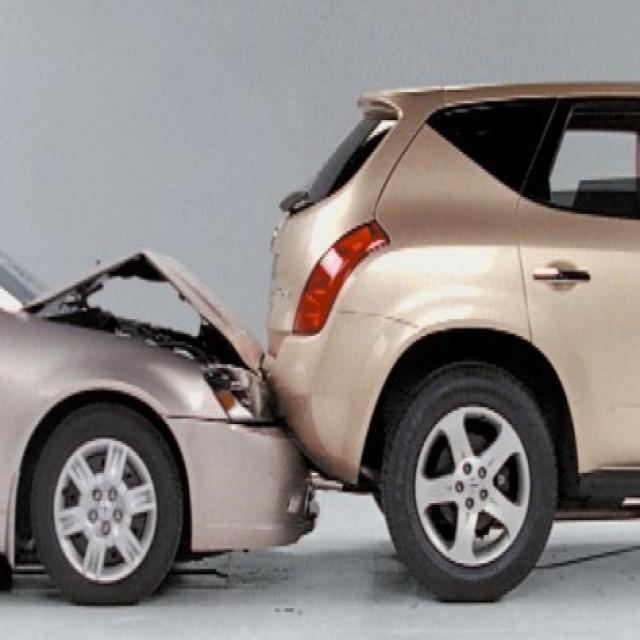crush: (23, 250, 267, 375)
